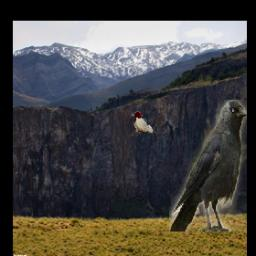Crow: (168, 100, 246, 232)
Woodpecker: (130, 111, 158, 134)
